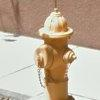Hydrant: (30, 7, 82, 100)
